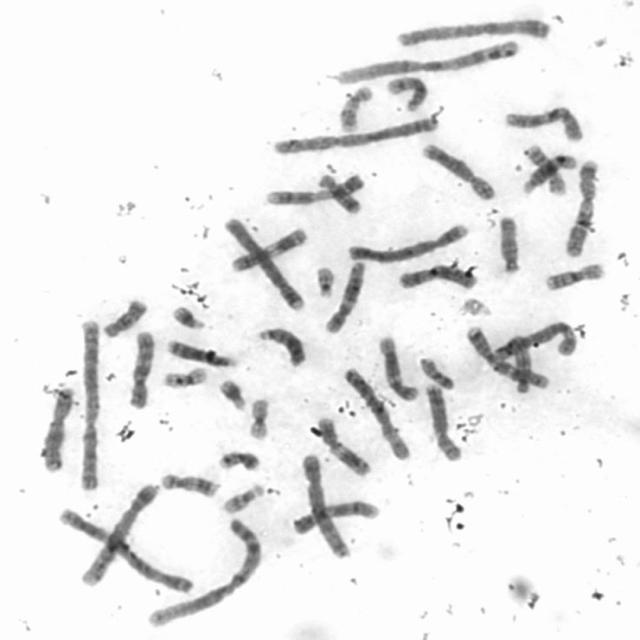A1: (142, 514, 266, 630), (333, 34, 525, 86)
A2: (269, 110, 441, 156), (73, 311, 104, 493)
A3: (52, 503, 197, 595), (392, 14, 554, 49)
B4: (220, 213, 310, 313), (344, 218, 471, 265)
B5: (76, 478, 163, 590), (296, 448, 354, 560)
C10: (499, 100, 586, 144), (123, 326, 157, 410)
C11: (311, 411, 374, 478), (227, 223, 310, 273)
C12: (322, 257, 368, 335), (374, 330, 422, 403)
C6: (338, 362, 413, 463), (489, 316, 578, 363)
C7: (463, 321, 554, 392), (561, 154, 602, 258)
C8: (416, 138, 498, 202), (420, 377, 466, 462)
C9: (262, 169, 368, 207), (287, 495, 384, 536)
D13: (162, 334, 238, 368), (252, 322, 308, 368)
D14: (518, 148, 580, 196), (382, 70, 431, 112)
D15: (494, 210, 524, 276), (509, 334, 536, 398)
E16: (519, 143, 574, 197), (541, 258, 608, 292)
E17: (335, 80, 375, 134), (156, 467, 223, 499)
E18: (314, 168, 364, 216), (100, 294, 150, 338)
F19: (243, 393, 273, 442), (158, 362, 210, 389)
F20: (415, 352, 458, 391), (214, 446, 263, 472)
G21: (214, 374, 250, 412), (168, 300, 209, 332)
G22: (218, 479, 267, 515), (311, 261, 338, 299)
X: (35, 382, 78, 474), (393, 260, 481, 290)
